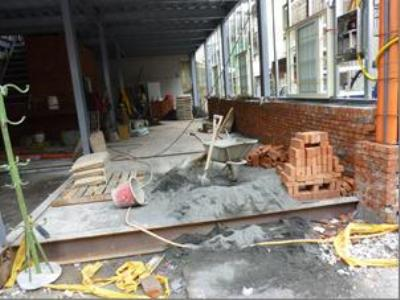bucket: (111, 176, 146, 209)
